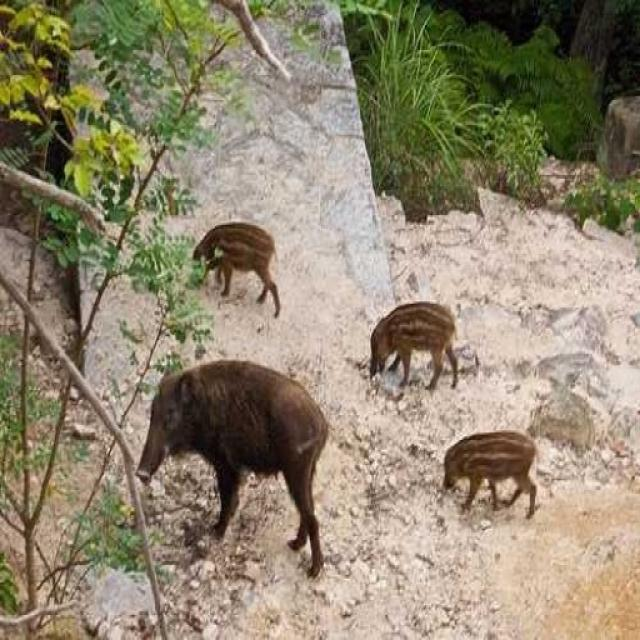pig: (111, 338, 352, 582), (192, 196, 322, 300), (356, 260, 454, 386), (452, 405, 550, 509)
